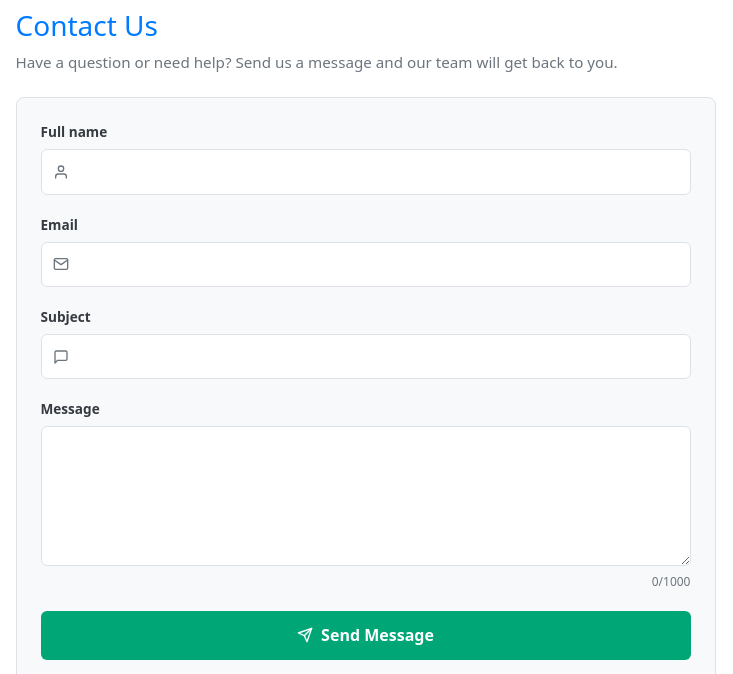
it: Contact › clears only the changed field error while the others remain
Click the button "Send Message".
click(366, 635)  # box [40,611,690,660]
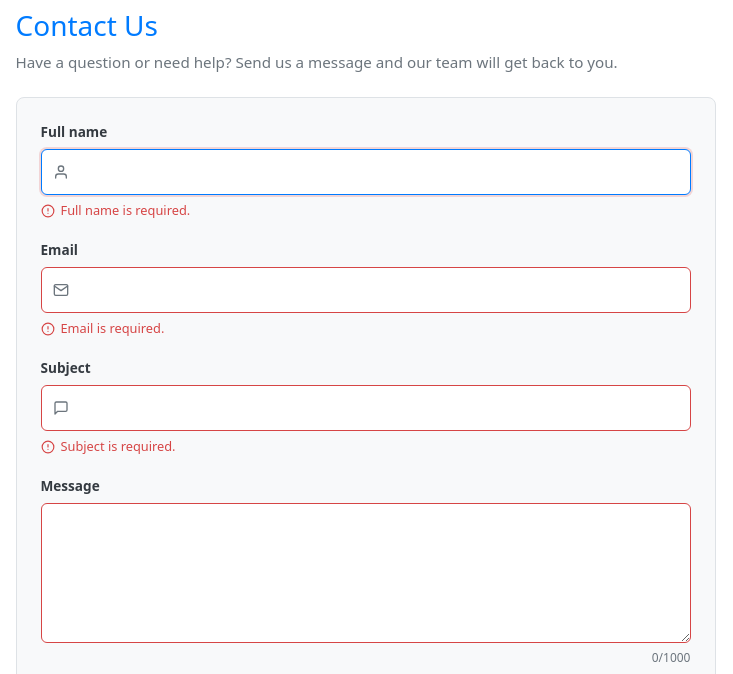
Now the text "Full name is required." is shown, box [60,201,190,220]
Type "Jane" into the field labelled "Full name".
click(366, 172); type("Jane")  # box [40,149,690,195]
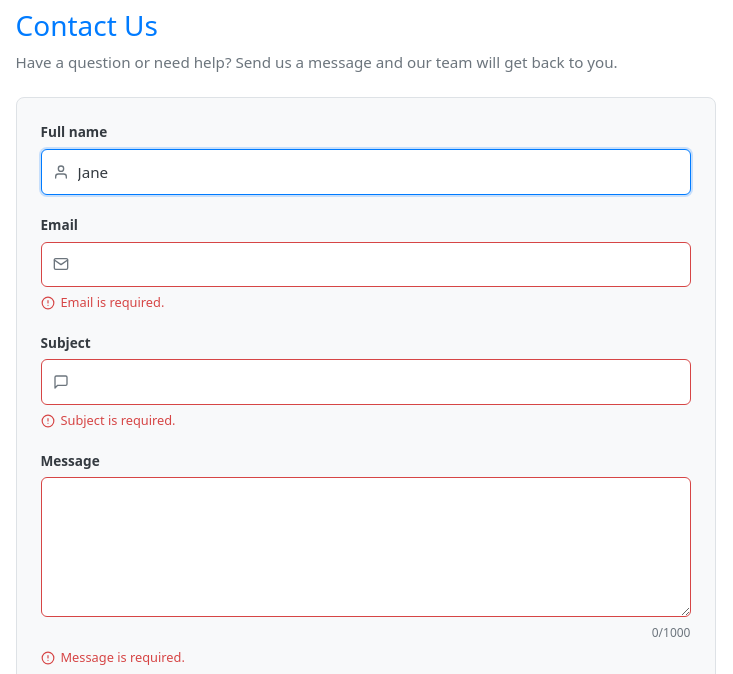
Now the text "Email is required." is shown, box [60,294,164,313]
Now the text "Subject is required." is shown, box [60,411,176,431]
Now the text "Full name is required." is gone
